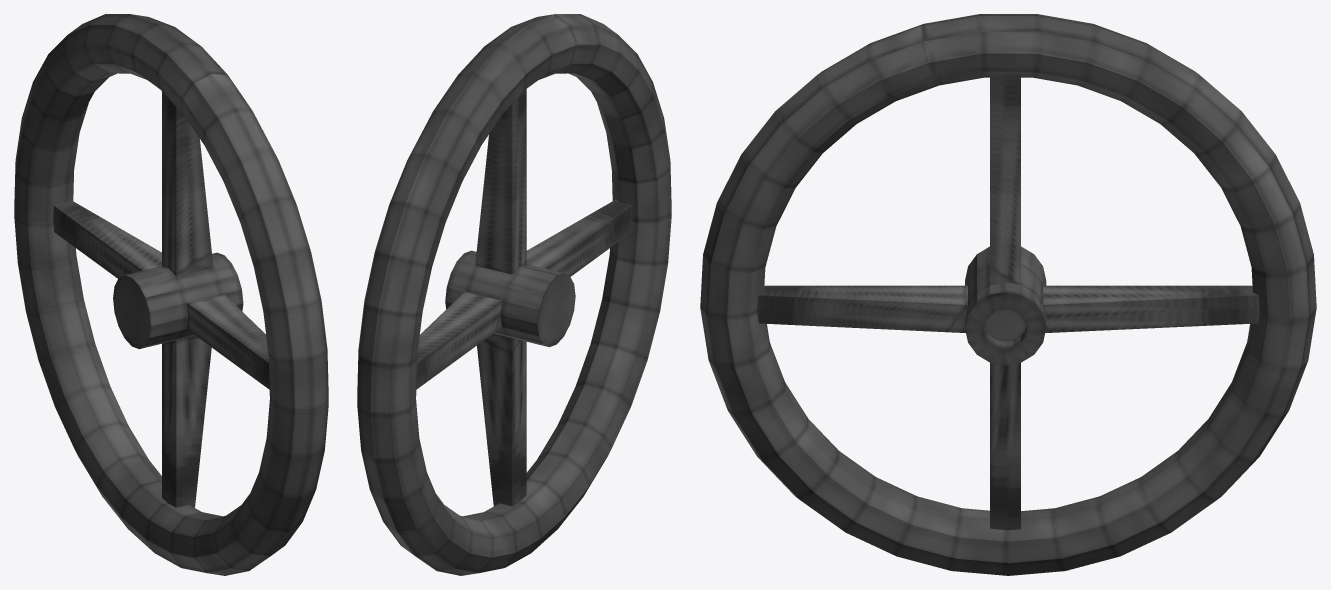
Rendered from PoigneeOnly.fbx.
3 views of the same model, side by side, from view 1: azimuth 30°, elevation 25°; view 2: azimuth 150°, elevation 25°; view 3: azimuth 270°, elevation 25° (orthographic). The views are drawn at different scales.
Parts seen in each view (by area): view 1: Poignée; view 2: Poignée; view 3: Poignée.
Part boxes in pixels (x1,y1,x2,y2): Poignée: (14, 14, 328, 575); Poignée: (357, 14, 671, 575); Poignée: (700, 14, 1316, 575).
Bounding box in the file's own units: 14.09 × 75.83 × 75.91.
